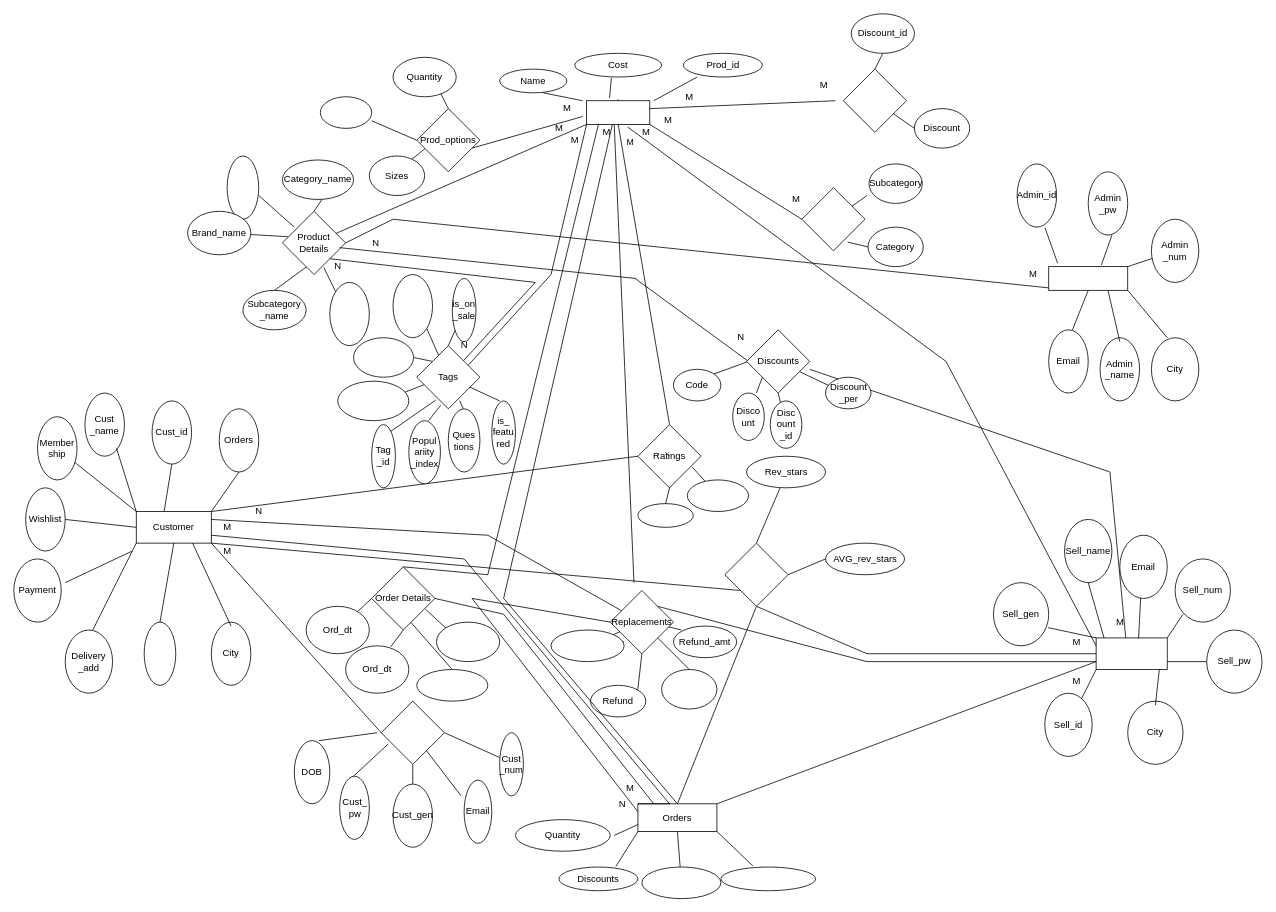
The diagram is 1276 pixels wide and 912 high, and some of its shapes have lost their labels. Each missing label, with the centre of its shape:
"Admin" belongs at [1088,278].
"Avg_stars" belongs at [718,495].
"Bill" belongs at [681,882].
"Cart" belongs at [159,653].
"Categories" belongs at [833,219].
"Colors" belongs at [346,112].
"current _discounts" belongs at [875,100].
"Customer Details" belongs at [412,732].
"deliver_dt" belongs at [452,685].
"Description _num" belongs at [373,400].
"Image_num" belongs at [383,357].
"Ord_id" belongs at [768,878].
"Origin" belongs at [242,187].
"Product" belongs at [618,112].
"Related _prod _ids" belongs at [412,306].
"Rep_prod_id" belongs at [587,645].
"Replacement _id" belongs at [689,689].
"Reviews" belongs at [756,574].
"Seller" belongs at [1131,653].
"Stars" belongs at [665,515].
"Status" belongs at [468,641].
"Supplier" belongs at [349,314].
